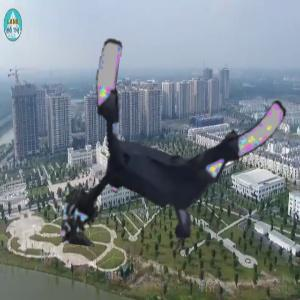drone: (72, 47, 284, 259)
